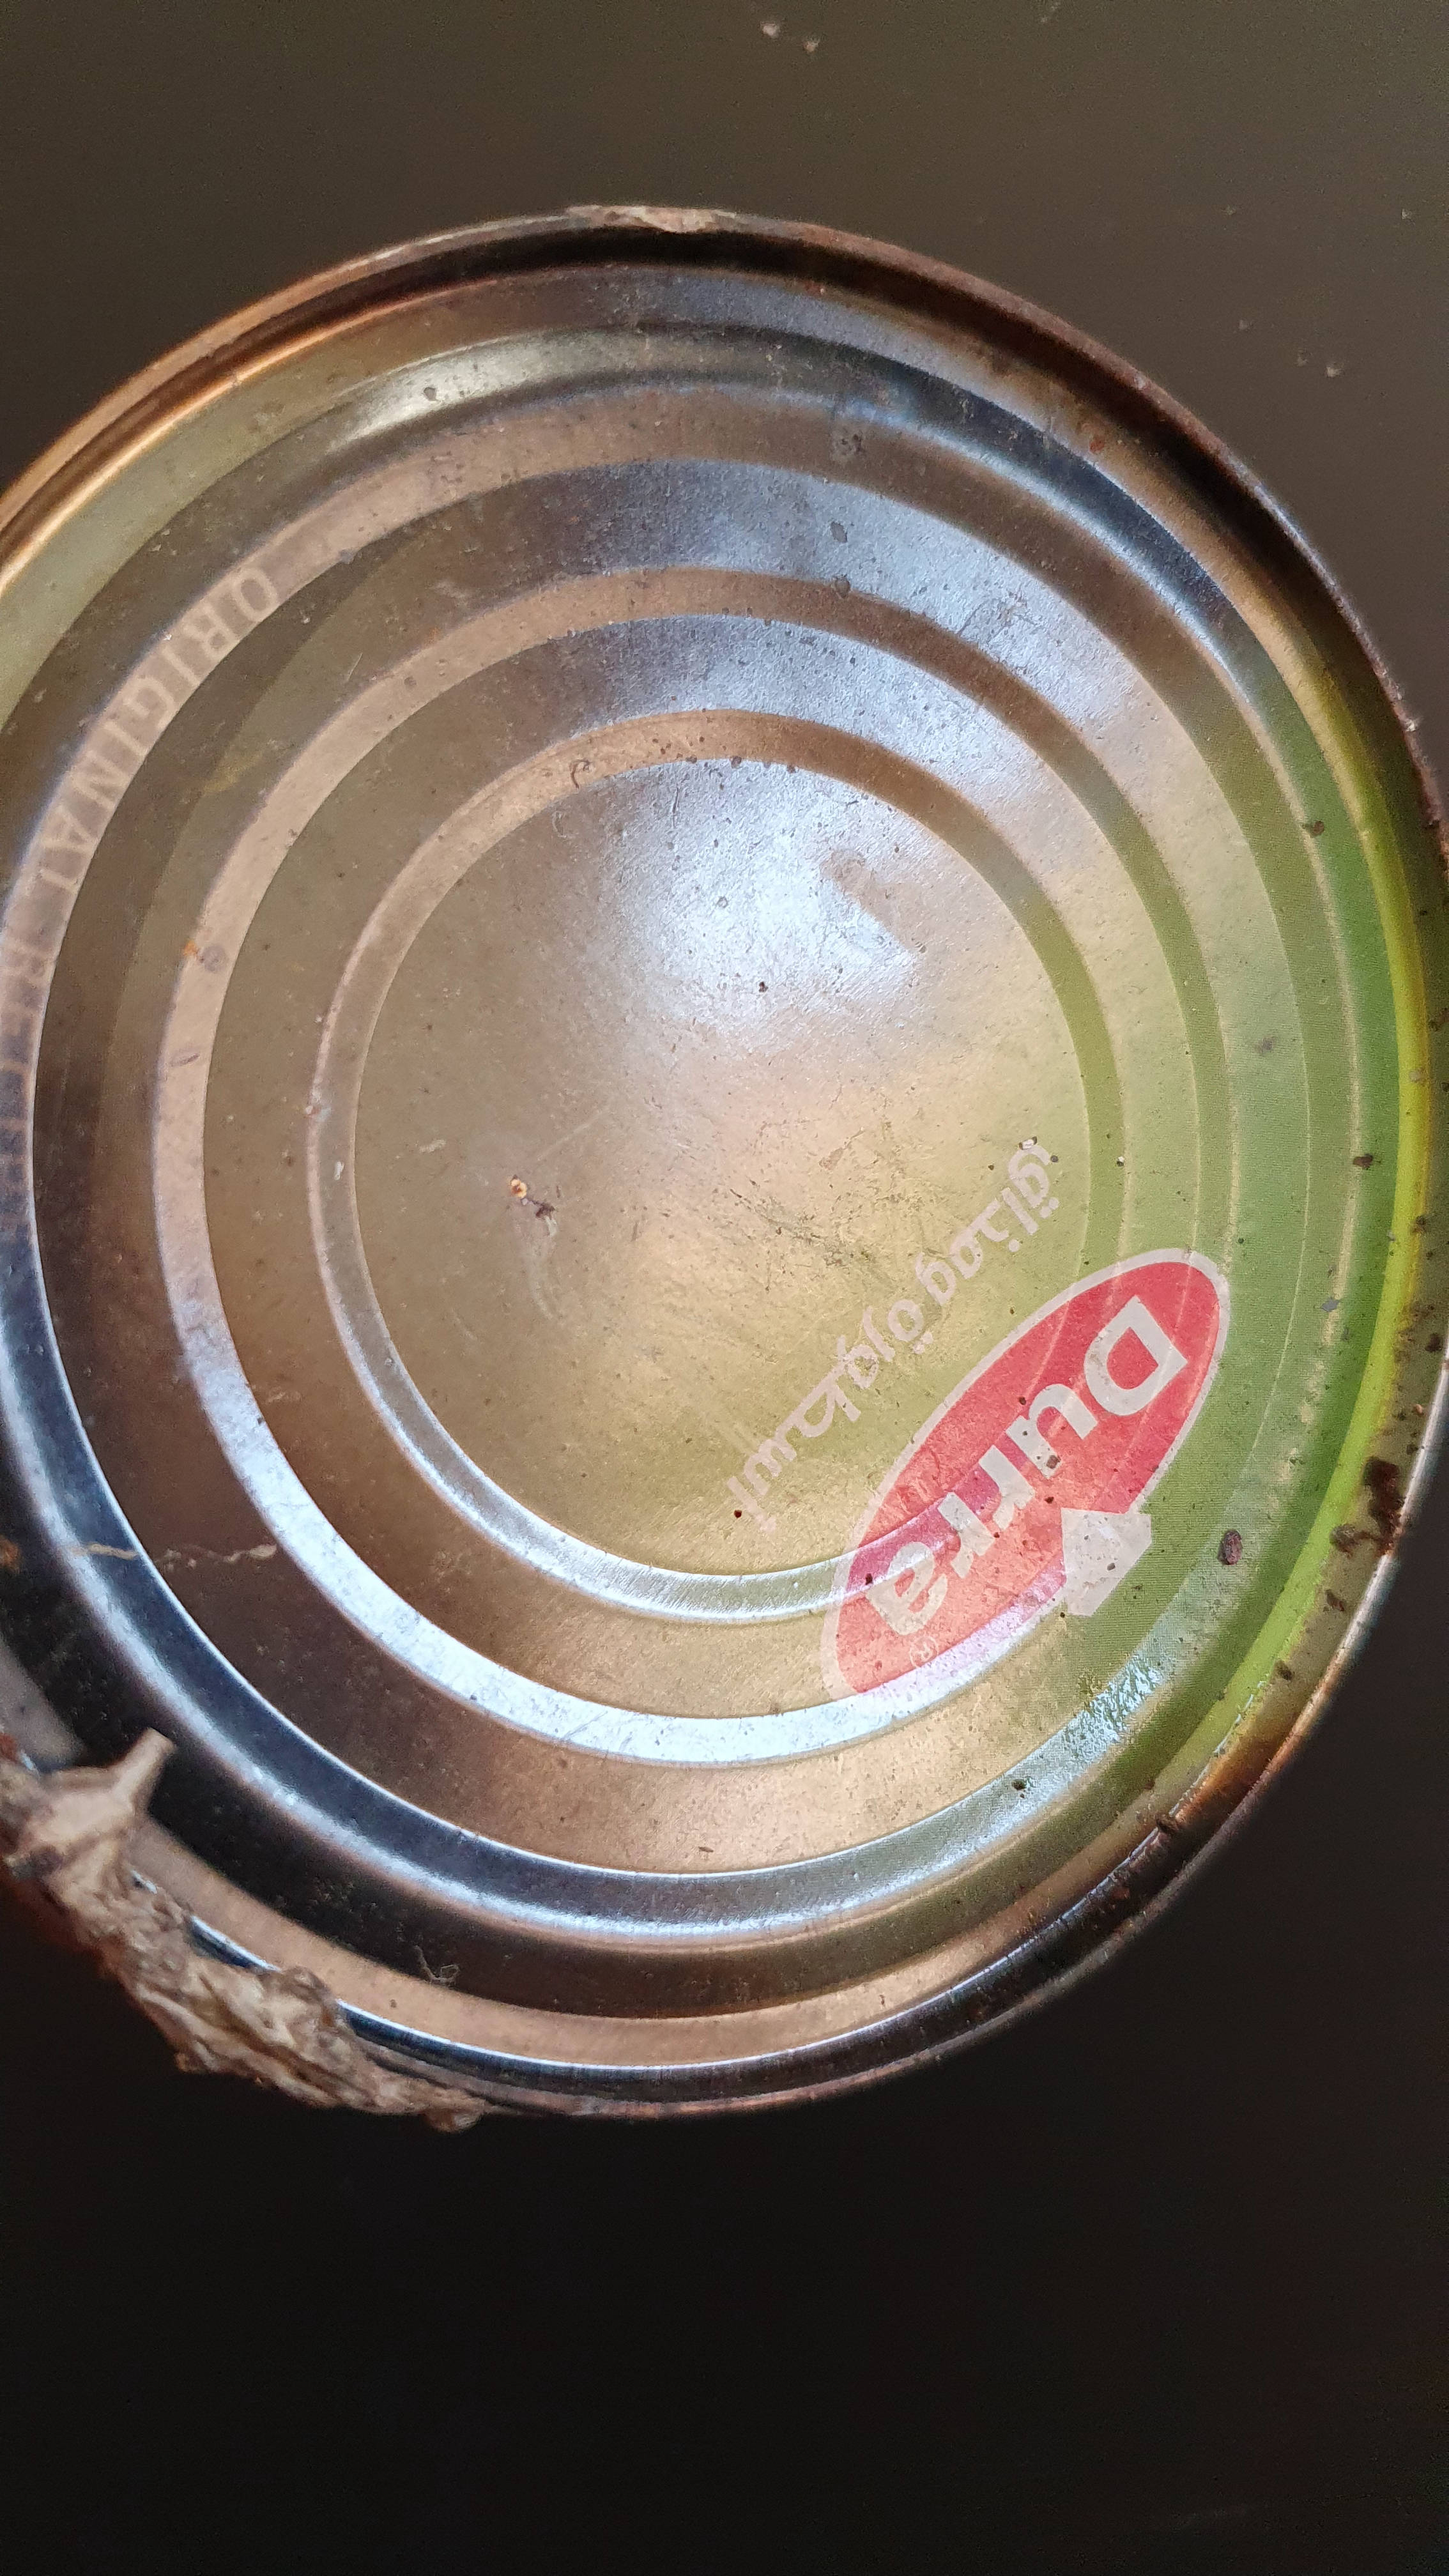metal: (2, 154, 1449, 2157)
